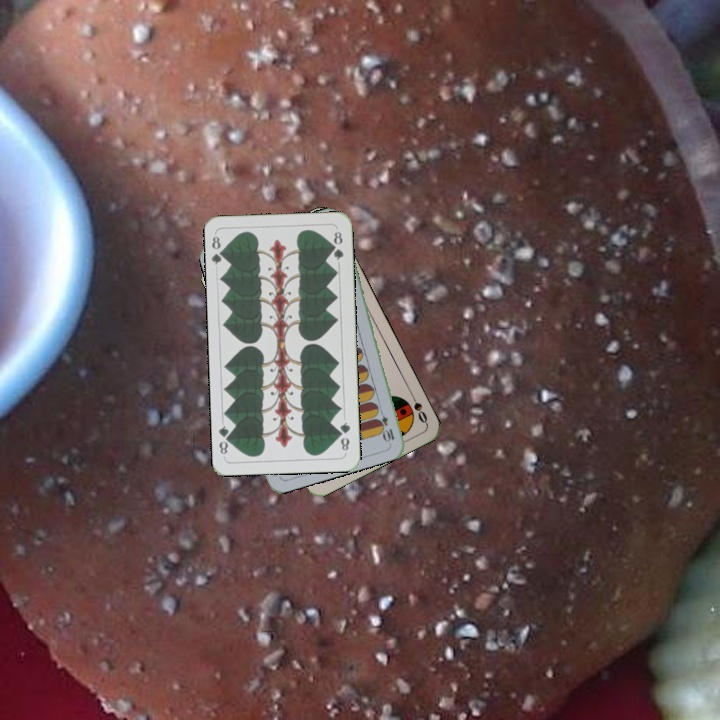E10: (374, 404, 397, 444)
G8: (208, 232, 228, 267), (335, 418, 353, 453)
SO: (406, 388, 430, 426)
